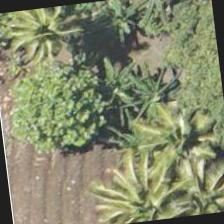Kelapa_Sawit: (129, 86, 223, 187), (0, 2, 98, 84), (105, 161, 202, 223)
